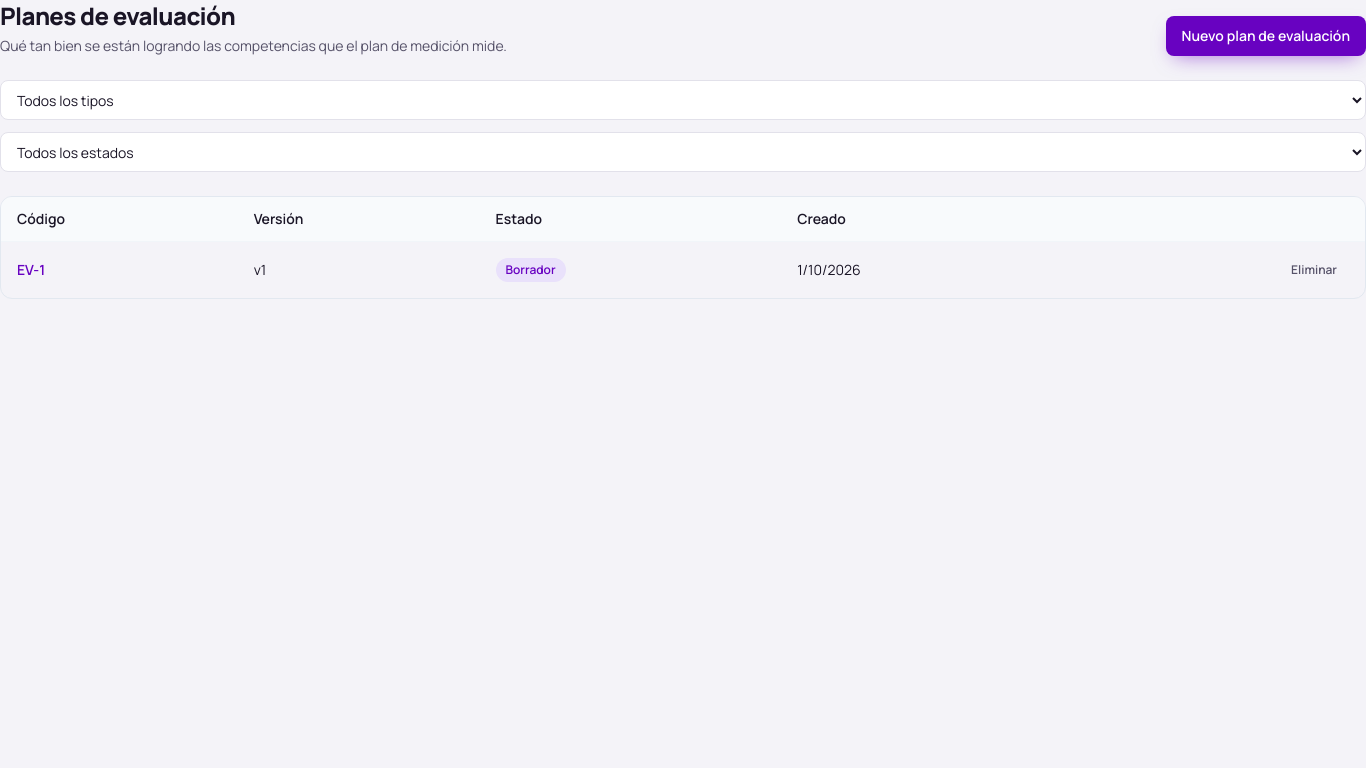
PlanesEvaluacionPage — el alta en la carrera de la sesión (RF-CH-037) › sin carrera asignada, un aviso en lugar del formulario
Click the button "Nuevo plan de evaluación".
click(1266, 36)  # box [1166,16,1365,56]
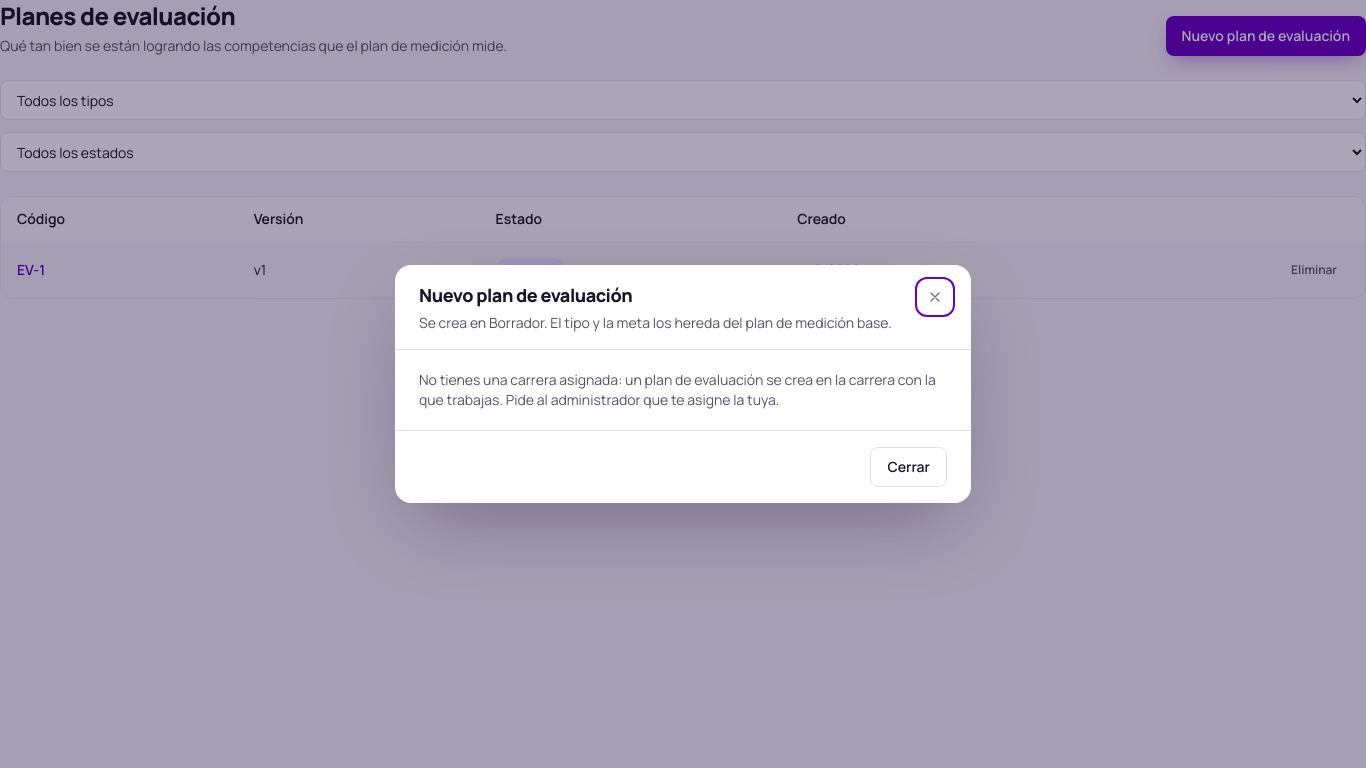
expect the text "No tienes una carrera asignada" is shown: met, box [419,370,936,409]
